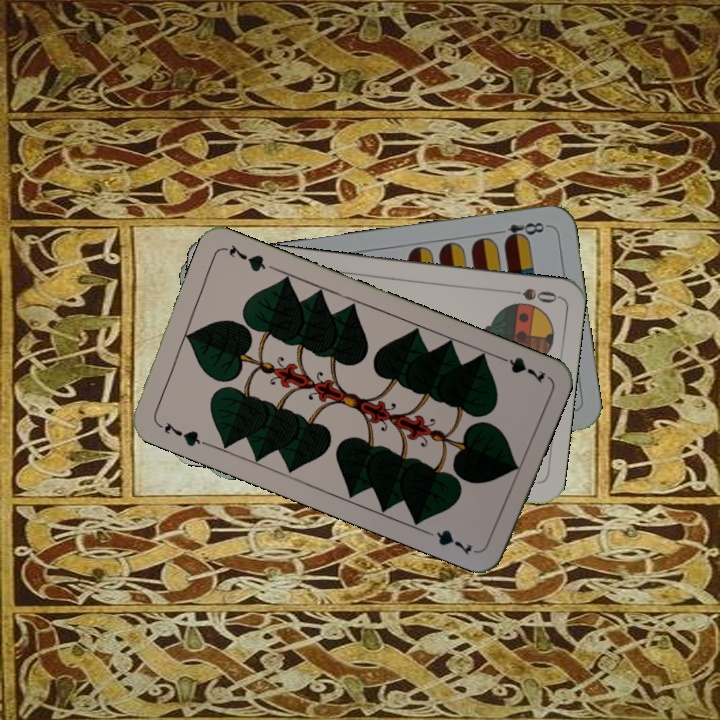E8: (491, 218, 547, 245)
G7: (492, 351, 549, 386), (153, 417, 209, 449)
SO: (501, 284, 560, 306)
